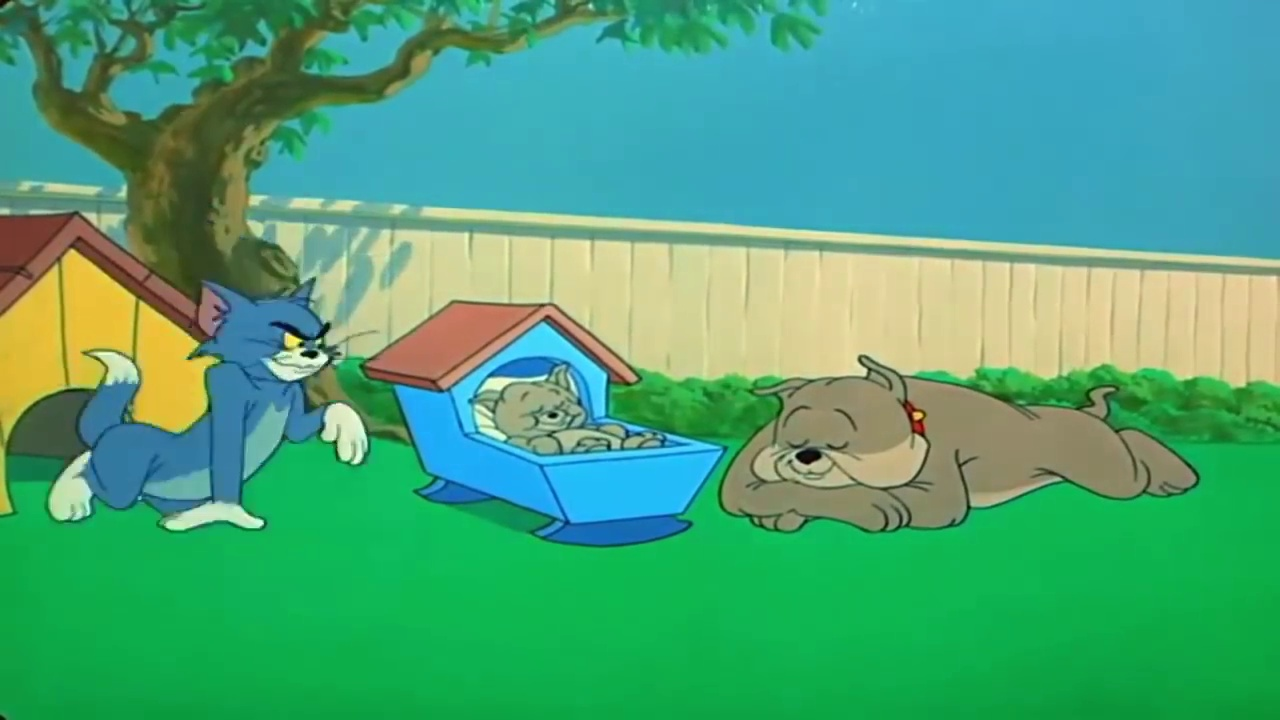spike: (745, 352, 930, 495)
tom: (185, 274, 341, 391)
